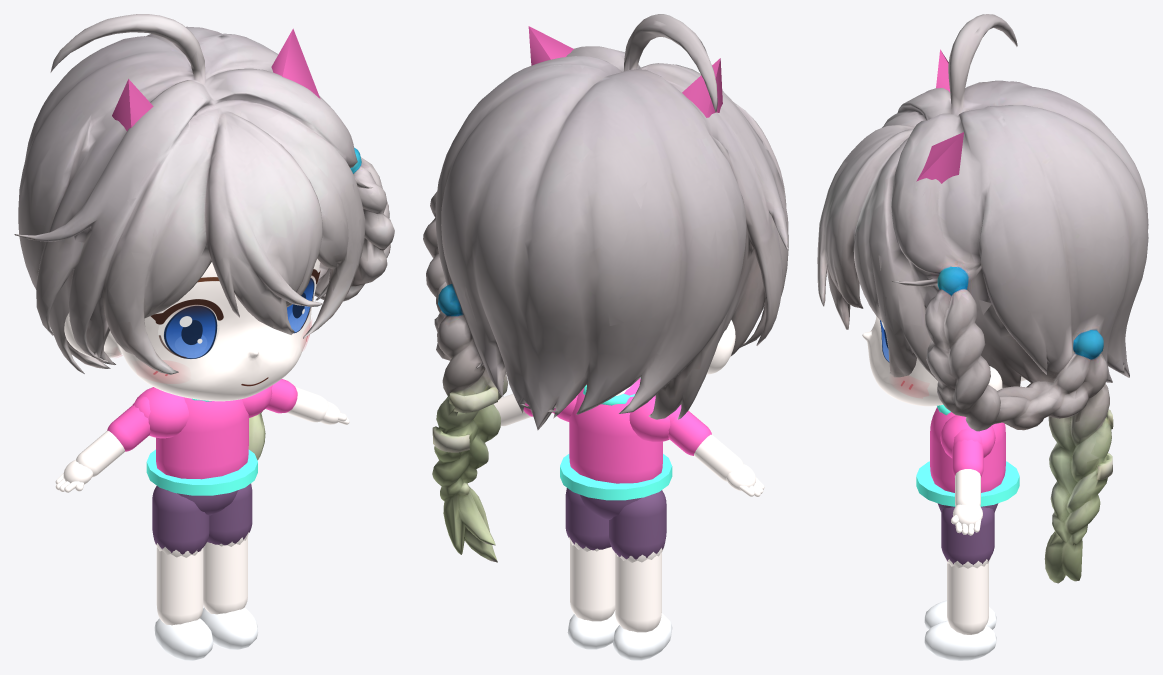
The model's file is nova.glb.
The picture shows the model from 3 angles, left to right: view 1: azimuth 30°, elevation 25°; view 2: azimuth 150°, elevation 25°; view 3: azimuth 270°, elevation 25°; orthographic projection. The views are drawn at different scales.
Parts seen in each view (by area): view 1: Head, Legs, HeadSkin, Upper, Face, ArmR, ArmL; view 2: Head, Legs, Upper, ArmR, HeadSkin, ArmL; view 3: Head, Legs, Upper, ArmL, HeadSkin, Face.
Boxes of the visible parts, x1=… form: Head: x1=14, y1=14, x2=394, y2=460; Legs: x1=152, y1=483, x2=258, y2=660; HeadSkin: x1=64, y1=259, x2=320, y2=401; Upper: x1=135, y1=386, x2=272, y2=515; Face: x1=118, y1=269, x2=320, y2=386; ArmR: x1=55, y1=396, x2=150, y2=492; ArmL: x1=265, y1=379, x2=349, y2=424; Head: x1=423, y1=14, x2=788, y2=562; Legs: x1=565, y1=488, x2=672, y2=660; Upper: x1=552, y1=378, x2=672, y2=519; ArmR: x1=668, y1=404, x2=764, y2=496; HeadSkin: x1=616, y1=320, x2=735, y2=395; ArmL: x1=494, y1=394, x2=552, y2=426; Head: x1=817, y1=14, x2=1148, y2=583; Legs: x1=924, y1=507, x2=996, y2=660; Upper: x1=916, y1=404, x2=1019, y2=512; ArmL: x1=951, y1=428, x2=983, y2=535; HeadSkin: x1=862, y1=316, x2=1026, y2=406; Face: x1=879, y1=319, x2=928, y2=397.
Bounding box in the file's own units: 2.13 × 3.58 × 1.79.
Materials: 9 (2 with a texture image).
